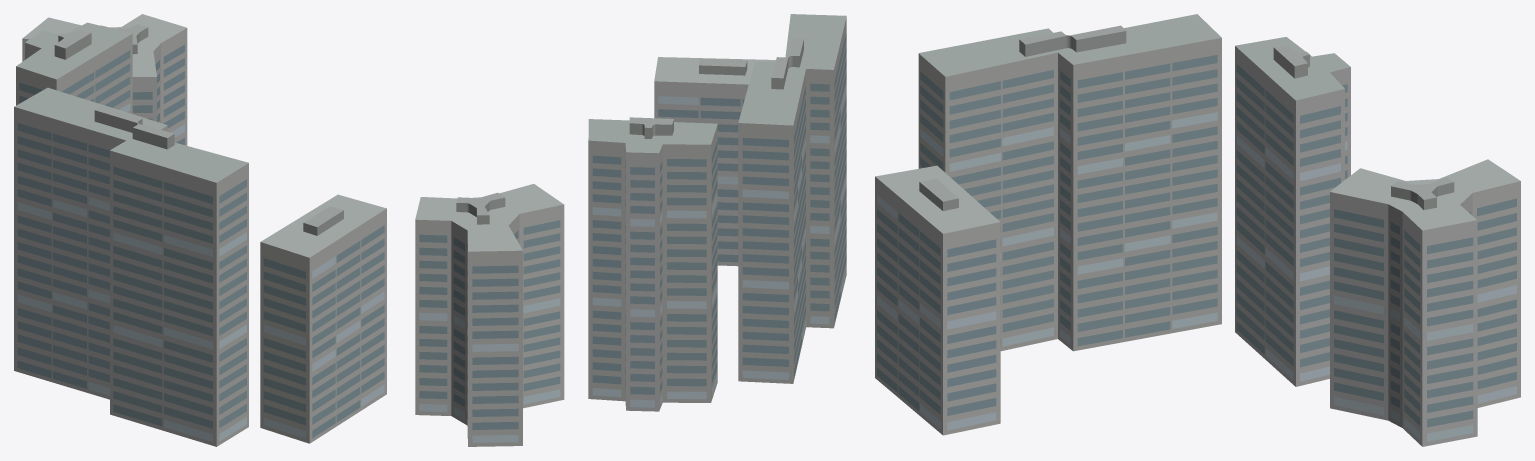
The model's file is apt-a15208007.glb.
The picture shows the model from 3 angles, left to right: view 1: azimuth 30°, elevation 25°; view 2: azimuth 150°, elevation 25°; view 3: azimuth 270°, elevation 25°; orthographic projection. The views are drawn at different scales.
Parts seen in each view (by area): view 1: apt-a15208007; view 2: apt-a15208007; view 3: apt-a15208007.
Part boxes in pixels (x1=…): apt-a15208007: x1=14, y1=14, x2=386, y2=446; apt-a15208007: x1=415, y1=14, x2=846, y2=446; apt-a15208007: x1=875, y1=14, x2=1520, y2=446.
Bounding box in the file's own units: 61.04 × 58 × 114.
